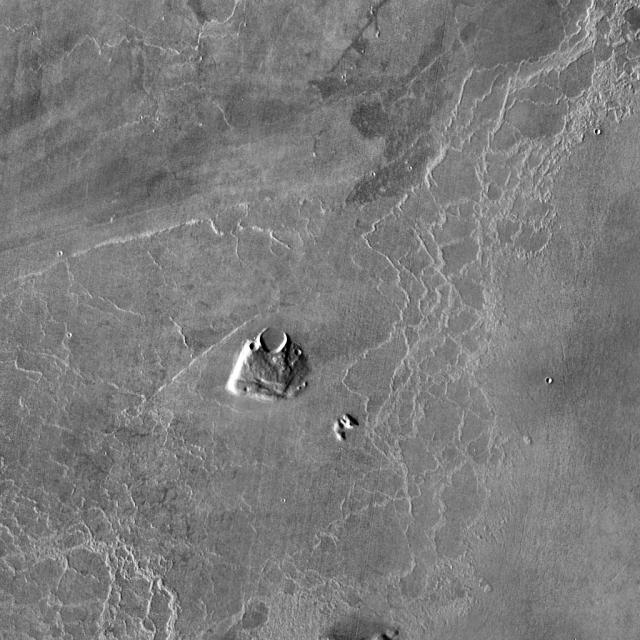crater: (263, 325, 290, 349), (252, 339, 263, 349), (296, 346, 304, 353)
